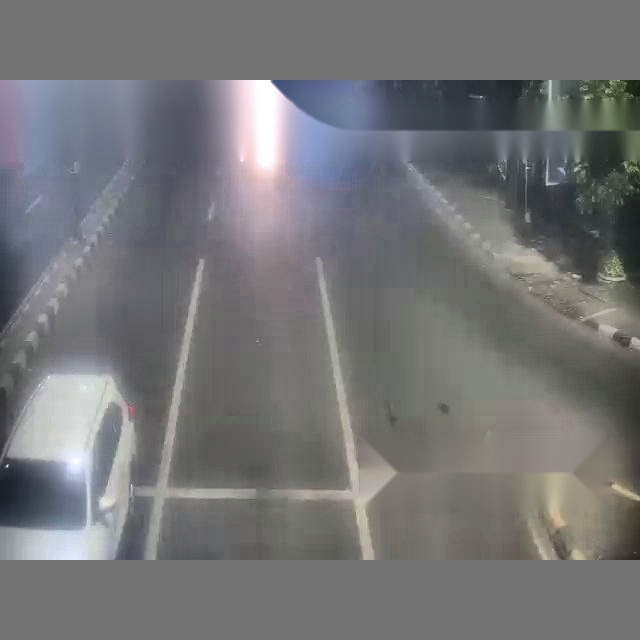Mobil: (0, 372, 138, 557)
